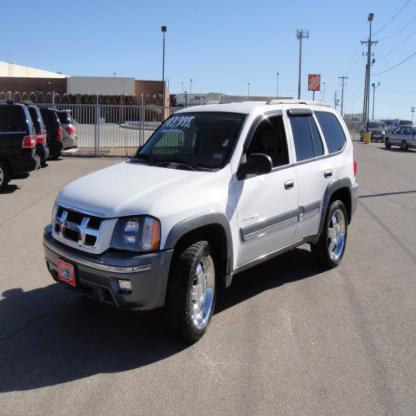Vehicle: (38, 105, 360, 340)
